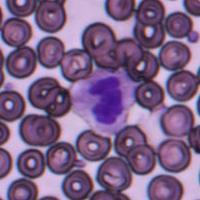N: (70, 68, 136, 133)
